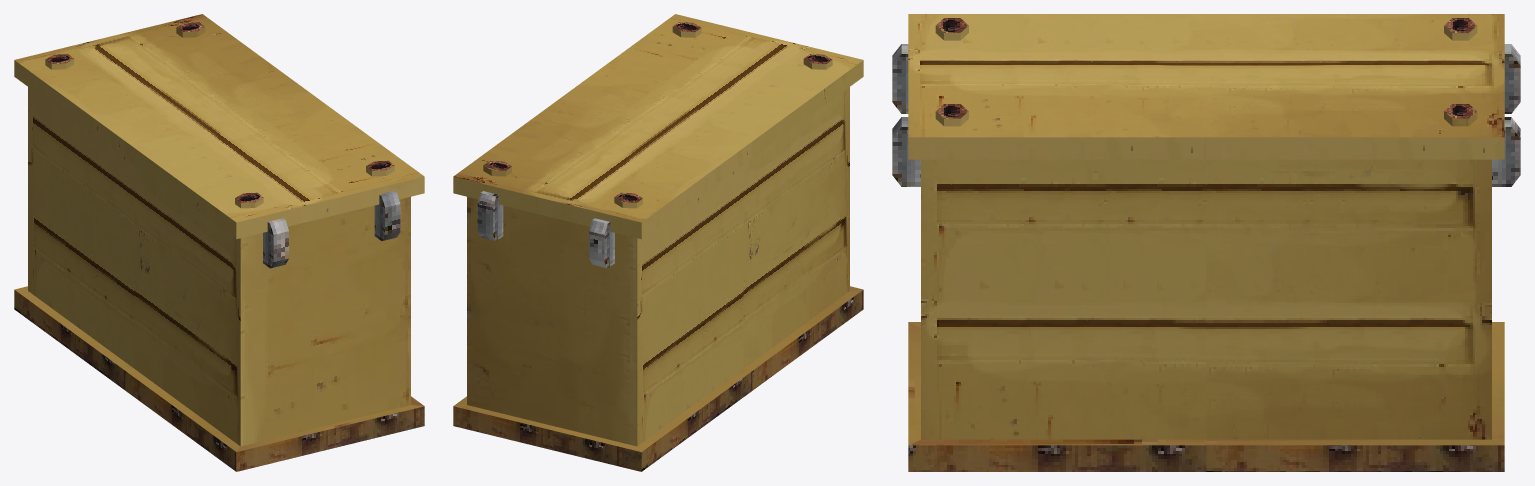
File: crate_large.glb
3 renders of one model, left to right at view 1: azimuth 30°, elevation 25°; view 2: azimuth 150°, elevation 25°; view 3: azimuth 270°, elevation 25°, orthographic. The views are drawn at different scales.
Parts seen in each view (by area): view 1: crate_large; view 2: crate_large; view 3: crate_large.
Part boxes in pixels (x1=…): crate_large: x1=14, y1=14, x2=424, y2=471; crate_large: x1=453, y1=14, x2=863, y2=471; crate_large: x1=892, y1=14, x2=1520, y2=471.
Bounding box in the file's own units: 3.55 × 4.6 × 7.65.
1 material, 1 textured.
